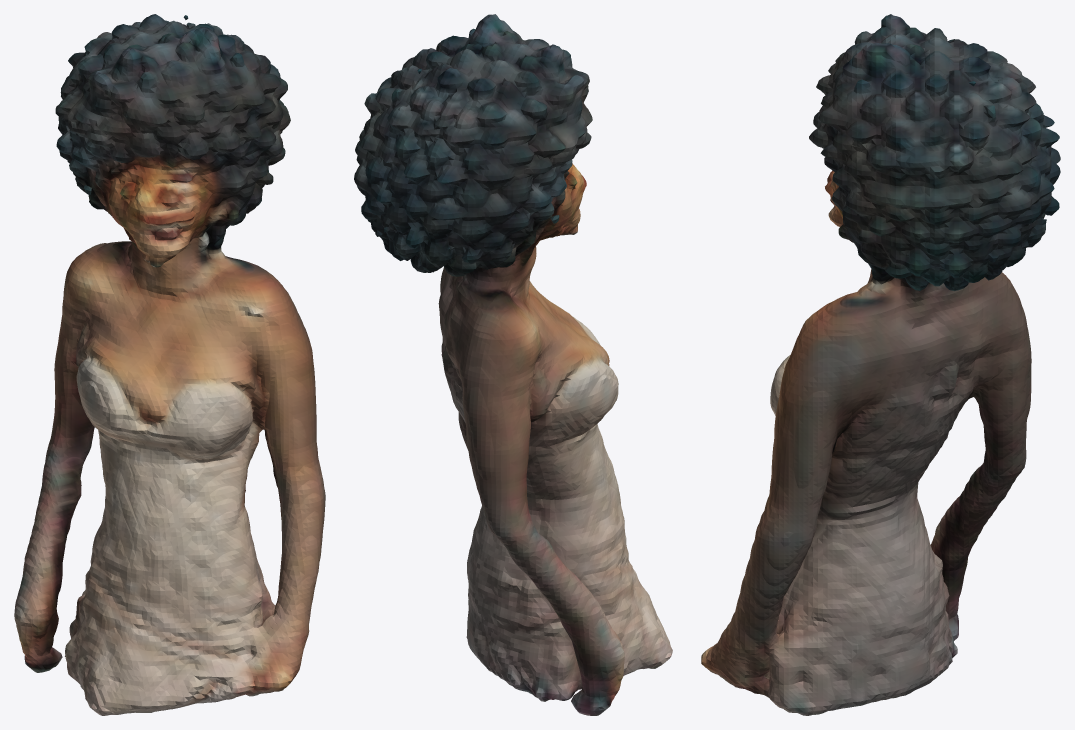
The model's file is delicia_local.glb.
The picture shows the model from 3 angles, left to right: view 1: azimuth 30°, elevation 25°; view 2: azimuth 150°, elevation 25°; view 3: azimuth 270°, elevation 25°; orthographic projection. The views are drawn at different scales.
Visible parts, largest first — view 1: geometry_0; view 2: geometry_0; view 3: geometry_0.
Boxes of the visible parts, x1,y1,x2,y2 form: geometry_0: [14, 14, 325, 715]; geometry_0: [354, 14, 672, 715]; geometry_0: [701, 14, 1060, 715].
Bounding box in the file's own units: 0.4339 × 1.03 × 0.504.
